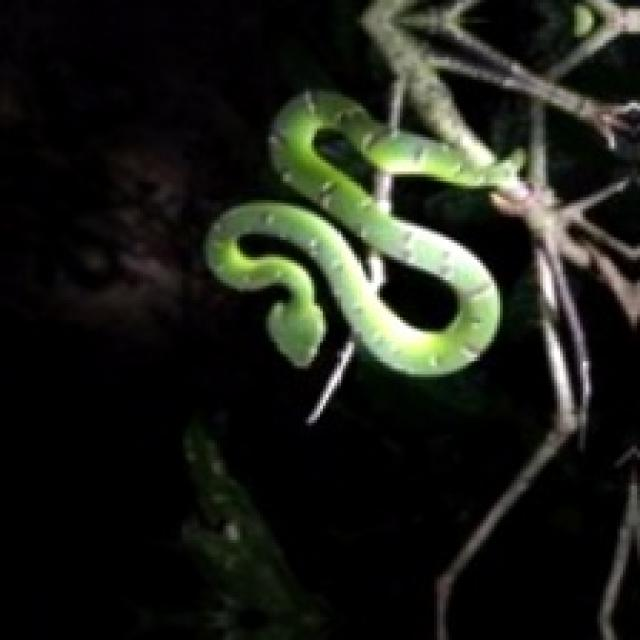north ph temple pitviper: (206, 91, 514, 374)
